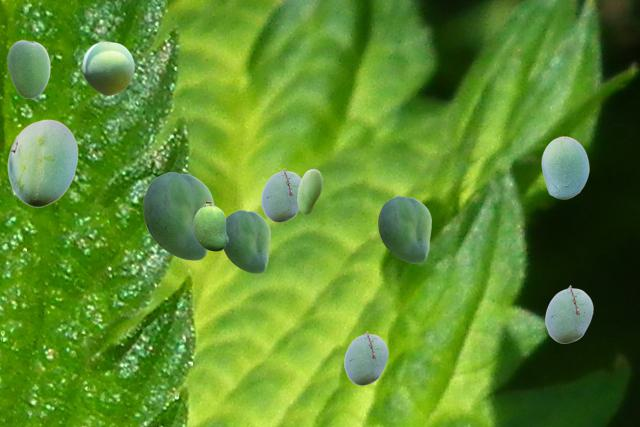green_mango: (7, 119, 77, 206), (143, 172, 212, 259), (378, 196, 430, 262), (541, 136, 588, 198), (223, 210, 269, 272), (82, 41, 133, 94), (545, 285, 592, 342), (7, 40, 49, 97), (344, 331, 387, 384), (261, 168, 300, 221), (193, 201, 227, 250), (297, 169, 321, 213)
